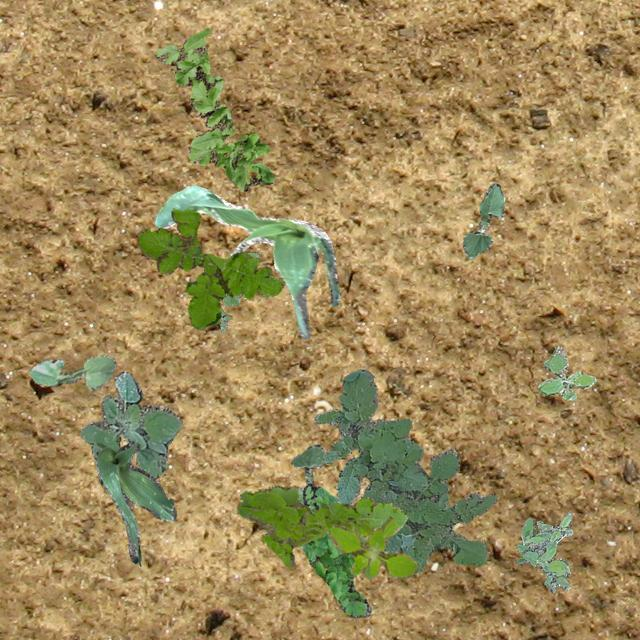crop: (154, 184, 338, 338), (94, 438, 175, 564), (462, 182, 504, 258), (29, 354, 116, 390), (290, 442, 324, 504)
weed: (314, 368, 496, 572), (154, 28, 274, 190), (136, 208, 284, 328), (237, 484, 406, 566), (80, 371, 182, 478), (299, 482, 371, 616), (328, 518, 417, 578), (514, 510, 572, 592), (217, 250, 260, 330), (538, 344, 596, 400)
